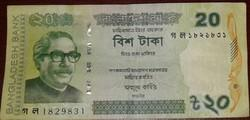20 taka: (6, 6, 247, 117)
